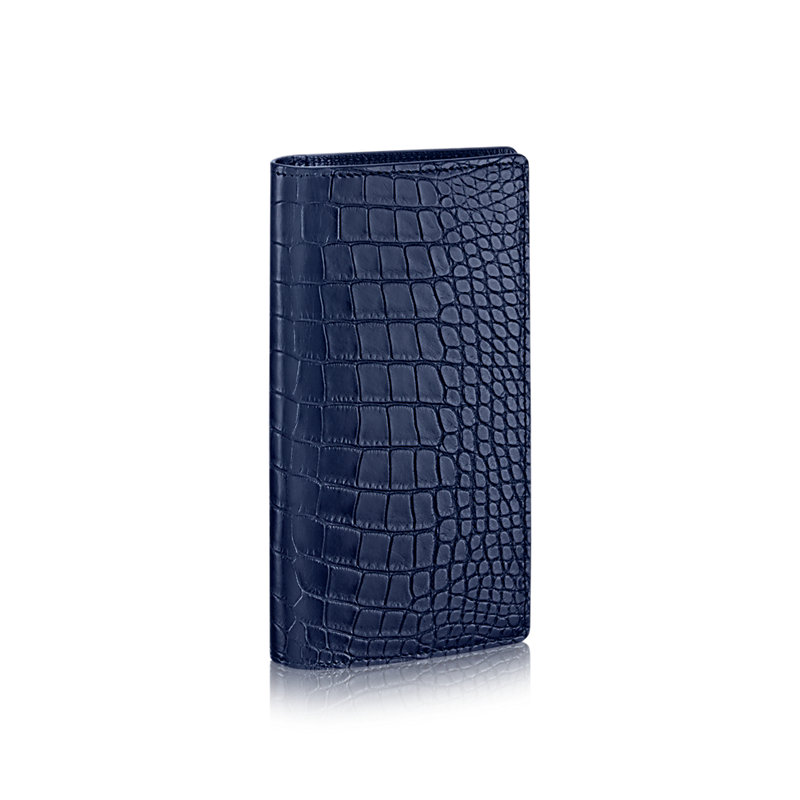monedero: (265, 142, 534, 673)
